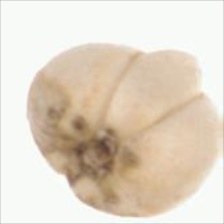L5: (98, 48, 211, 138), (58, 129, 130, 211)
L6: (23, 40, 224, 220)
